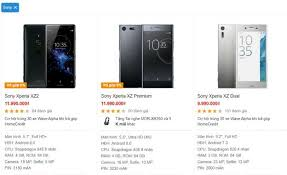sony: (22, 22, 80, 90), (119, 24, 177, 92), (212, 24, 270, 92)
